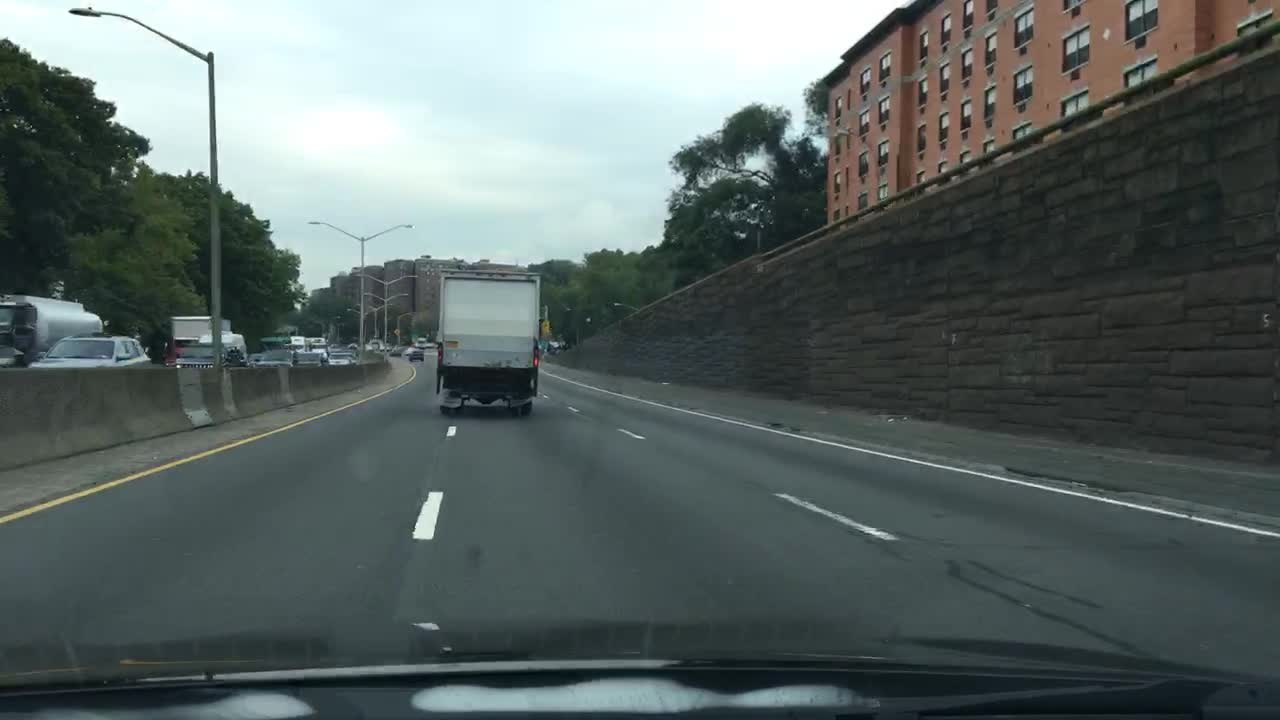car: (30, 334, 148, 373), (253, 347, 303, 368), (292, 349, 327, 371), (325, 349, 354, 368), (239, 351, 265, 368), (545, 339, 572, 354), (406, 347, 425, 361), (388, 344, 403, 356)
traffic sign: (538, 319, 548, 337)
truck: (432, 261, 541, 415), (0, 290, 104, 369), (162, 314, 233, 366), (172, 332, 246, 371), (255, 332, 290, 353), (309, 334, 327, 351), (288, 334, 307, 347)
